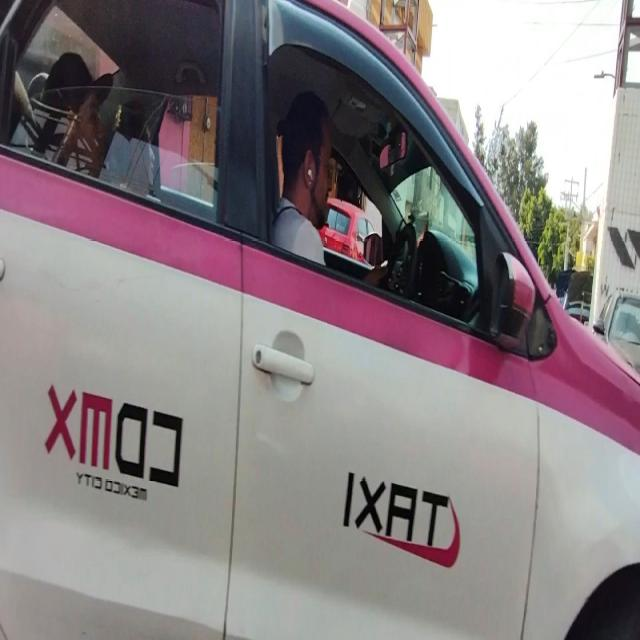adult: (271, 84, 332, 265)
